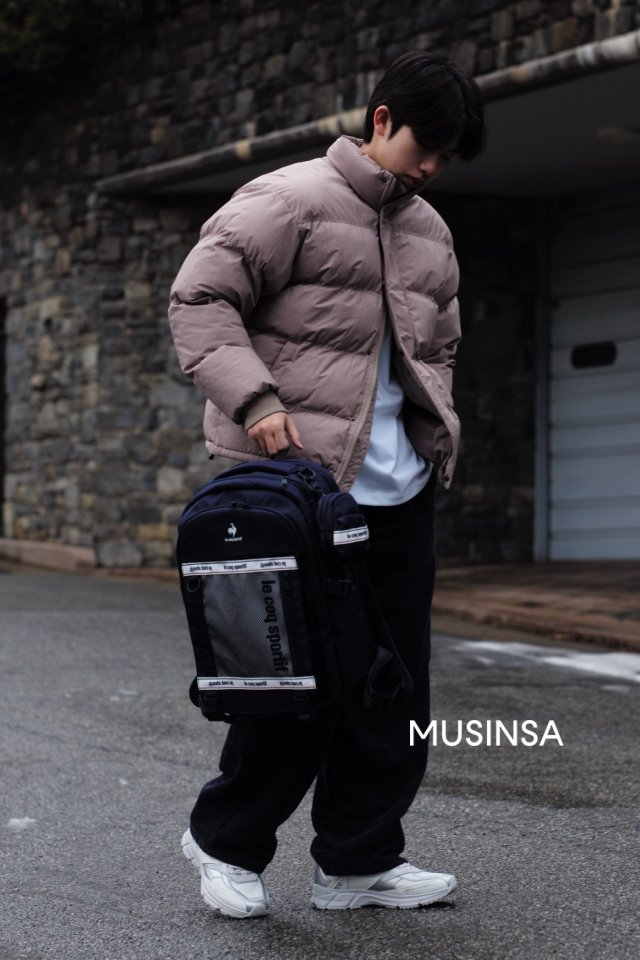Backpack: (160, 463, 383, 723)
Bubble jacket: (165, 143, 475, 500)
Pants: (217, 506, 433, 875)
Shoes: (175, 818, 468, 922)
